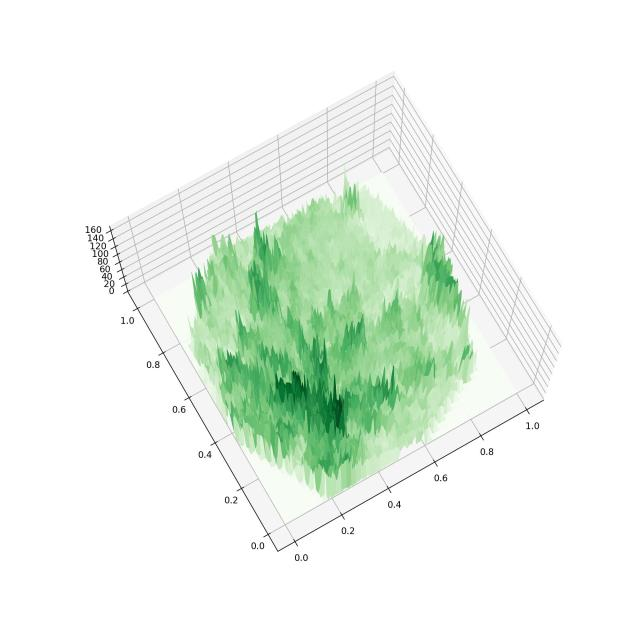spruce: (39, 36, 598, 590)
